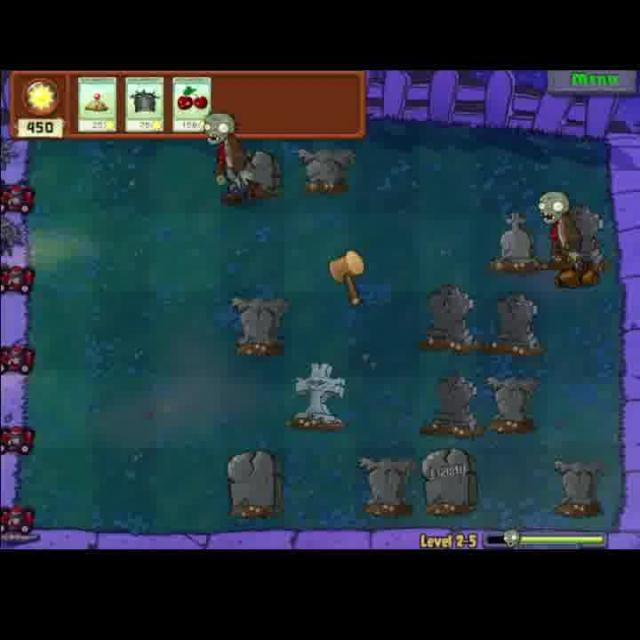coins: (200, 112, 267, 212), (537, 185, 595, 282)
